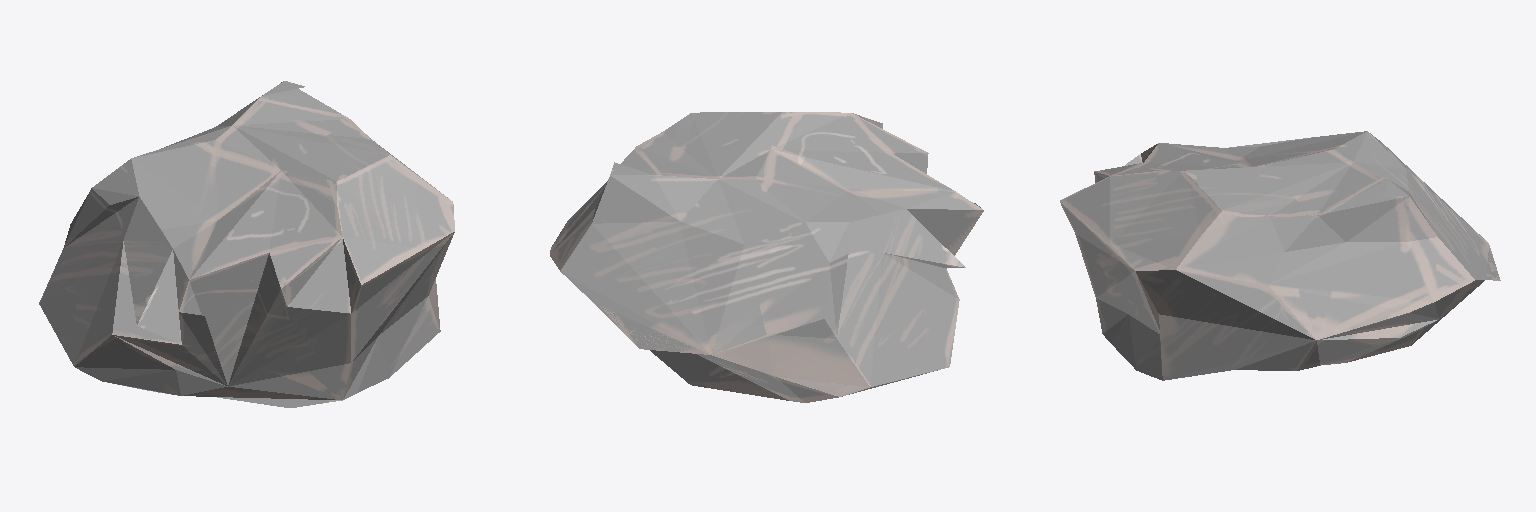
The picture shows the model from 3 angles: view 1: azimuth 30°, elevation 25°; view 2: azimuth 150°, elevation 25°; view 3: azimuth 270°, elevation 25°; orthographic projection.
Visible parts, largest first — view 1: rock2_Cube.004; view 2: rock2_Cube.004; view 3: rock2_Cube.004.
Part boxes in pixels (x1,y1,x2,y2): rock2_Cube.004: (39,81,454,407); rock2_Cube.004: (550,112,983,402); rock2_Cube.004: (1060,131,1500,380).
Bounding box in the file's own units: 1.39 × 0.7756 × 1.46.
Materials: 1 (1 with a texture image).